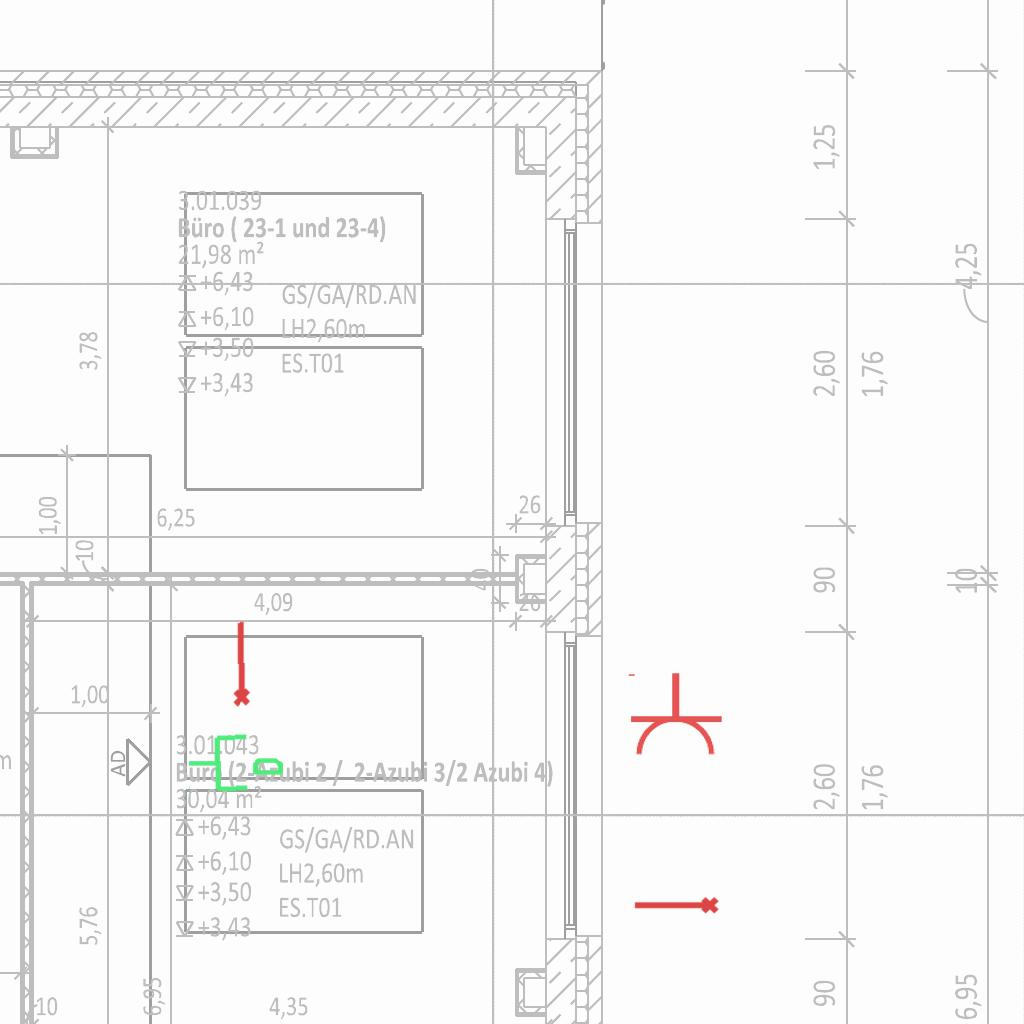ASR_Ansaugoeffnung: (227, 619, 253, 708), (632, 895, 720, 918)
Datenanschluss_einfach: (184, 725, 287, 797)
Schukosteckdose_einfach: (624, 671, 724, 758)
